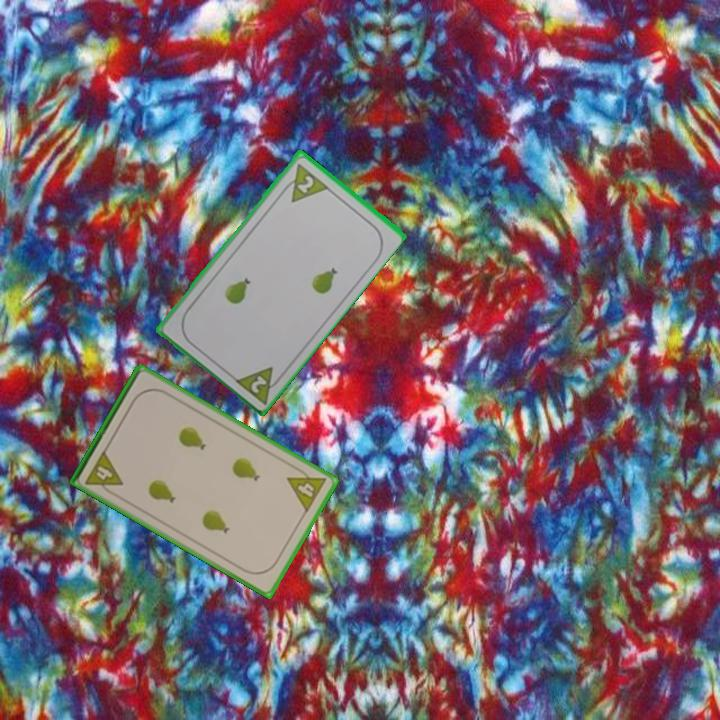2p: (230, 362, 287, 406), (277, 159, 330, 205)
4p: (284, 462, 329, 515), (81, 446, 126, 499)
